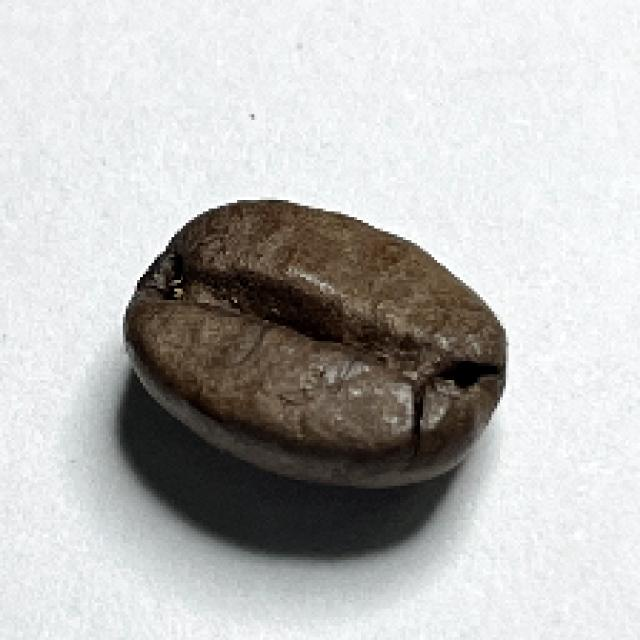bean: (120, 195, 512, 488)
